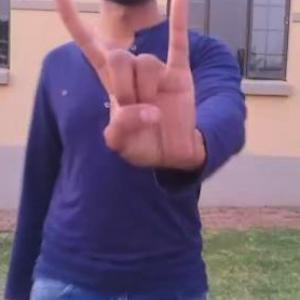takeoff-hand: (47, 0, 194, 175)
